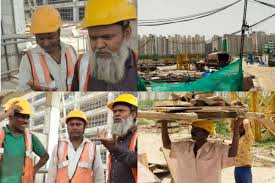arm: (96, 120, 140, 161), (14, 50, 34, 93), (30, 130, 50, 172), (88, 140, 106, 182), (47, 139, 61, 182), (1, 126, 4, 165)
face: (83, 20, 131, 58), (34, 30, 62, 49), (110, 102, 133, 122), (10, 110, 32, 130), (64, 118, 86, 137)
glove: (34, 150, 49, 168)
goggle: (12, 111, 31, 123)
helmet: (78, 1, 138, 48), (26, 3, 66, 35), (2, 92, 35, 118), (109, 89, 141, 112), (62, 106, 89, 125)
human: (73, 1, 146, 101), (14, 3, 83, 95), (98, 88, 148, 181), (47, 106, 105, 182), (1, 92, 49, 181)
nogoggle: (87, 30, 124, 44), (112, 105, 132, 115), (36, 32, 60, 40), (14, 111, 30, 119), (66, 121, 84, 128)
vest: (25, 43, 77, 93), (100, 118, 141, 179), (52, 135, 98, 182), (1, 125, 37, 180)
